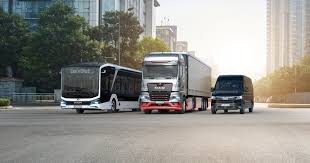bus: (137, 52, 213, 113), (59, 62, 142, 114)
